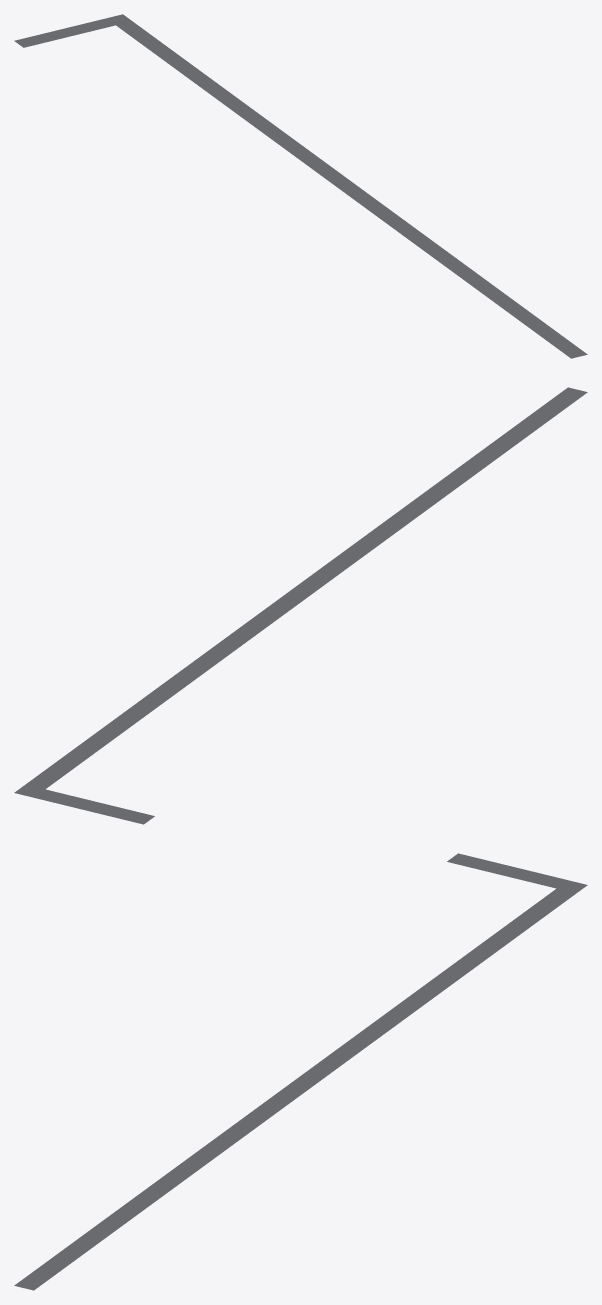
Rendered from kd_stage_135ded_4_96_exterior_piece_3.glb.
The picture shows the model from 3 angles, top to bottom: view 1: azimuth 30°, elevation 25°; view 2: azimuth 150°, elevation 25°; view 3: azimuth 330°, elevation 25°; orthographic projection. The views are drawn at different scales.
Visible parts, largest first — view 1: kd_stage_135ded_4_96_exterior_piece_3; view 2: kd_stage_135ded_4_96_exterior_piece_3; view 3: kd_stage_135ded_4_96_exterior_piece_3.
Part boxes in pixels (x1,y1,x2,y2): kd_stage_135ded_4_96_exterior_piece_3: [14, 14, 587, 358]; kd_stage_135ded_4_96_exterior_piece_3: [14, 387, 587, 824]; kd_stage_135ded_4_96_exterior_piece_3: [14, 853, 587, 1290].
Bounding box in the file's own units: 0.1303 × 5.96e-08 × 0.9635.
1 material, 1 textured.
